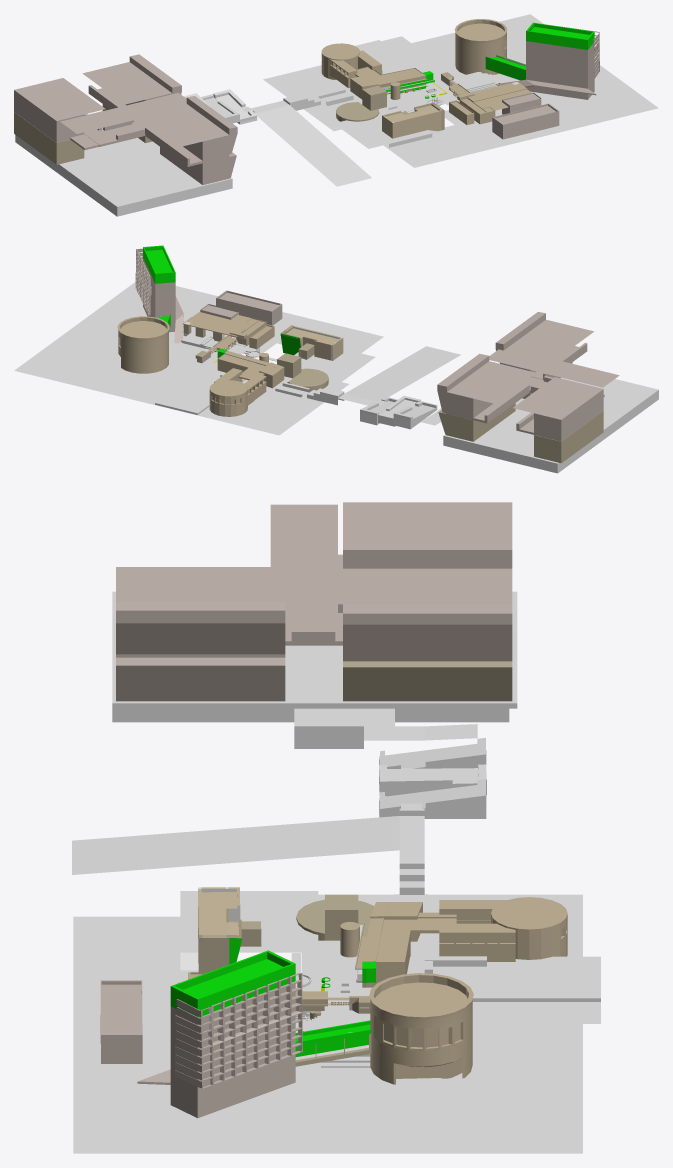
File: UNITY_UTB 1.fbx
3 views of the same model, one above another, from view 1: azimuth 30°, elevation 25°; view 2: azimuth 150°, elevation 25°; view 3: azimuth 270°, elevation 25° (orthographic). The views are drawn at different scales.
Visible parts, largest first — view 1: pPlane1, pasted__pCube5 (×2), pasted__pCube6 (×2), pasted__pasted__pasted__pCube6 (×2), pasted__pasted__pasted__pasted__pCube6, pasted__pasted__pCylinder4, pasted__pasted__pCube6, pasted__pasted__pasted__pasted__pasted__pasted__pasted__past (×2), pPlane2, pasted__pasted__pasted__pCube9, pCube9, pCube6 (+14 smaller); view 2: pPlane1, pasted__pCube5 (×2), pasted__pCube6 (×3), pasted__pasted__pasted__pCube6 (×2), pasted__pasted__pasted__pasted__pCube6, pasted__pasted__pCylinder4, pasted__pasted__pCube6, pPlane2, pasted__pasted__pasted__pCube9, pCube9, pasted__pCylinder4, pasted__pasted__pasted__pasted__pasted__pasted__pasted__past (+9 smaller); view 3: pPlane1, pasted__pCube6 (×3), pasted__pCube5 (×2), pasted__pasted__pasted__pCube6, pasted__pasted__pasted__pasted__pCube6, pasted__pasted__pCylinder4, pPlane3, pCube6, pPlane2, pasted__pasted__pasted__pasted__pasted__pasted__pasted__past (×2), pasted__pasted__pCube6, pasted__pCylinder4 (+11 smaller).
Boxes of the visible parts, x1,y1,x2,y2 form: pPlane1: (241, 14, 658, 186); pasted__pCube5 (×2): (15, 93, 239, 216); pasted__pCube6 (×2): (142, 96, 444, 166); pasted__pasted__pasted__pCube6 (×2): (14, 54, 181, 164); pasted__pasted__pasted__pasted__pCube6: (14, 78, 105, 149); pasted__pasted__pCylinder4: (454, 19, 507, 74); pasted__pasted__pCube6: (85, 65, 159, 146); pasted__pasted__pasted__pasted__pasted__pasted__pasted__past (×2): (526, 22, 594, 59); pPlane2: (60, 93, 189, 133); pasted__pasted__pasted__pCube9: (492, 103, 559, 139); pCube9: (459, 81, 531, 124); pCube6: (160, 147, 236, 184); pPlane1: (14, 282, 460, 435); pasted__pCube5 (×2): (378, 377, 658, 473); pasted__pCube6 (×3): (280, 312, 594, 441); pasted__pasted__pasted__pCube6 (×2): (437, 353, 603, 463); pasted__pasted__pasted__pasted__pCube6: (513, 377, 604, 441); pasted__pasted__pCylinder4: (117, 316, 169, 373); pasted__pasted__pCube6: (459, 364, 553, 423); pPlane2: (489, 348, 619, 387); pasted__pasted__pasted__pCube9: (216, 290, 282, 325); pCube9: (182, 311, 266, 345); pasted__pCylinder4: (209, 380, 247, 416); pasted__pasted__pasted__pasted__pasted__pasted__pasted__past: (143, 245, 175, 283); pPlane1: (72, 803, 600, 1153); pasted__pCube6 (×3): (116, 567, 512, 972); pasted__pCube5 (×2): (112, 591, 517, 796); pasted__pasted__pasted__pCube6: (343, 568, 512, 661); pasted__pasted__pasted__pasted__pCube6: (338, 502, 512, 568); pasted__pasted__pCylinder4: (369, 973, 473, 1084); pPlane3: (174, 973, 302, 1089); pCube6: (116, 657, 285, 701); pPlane2: (270, 504, 337, 619); pasted__pasted__pasted__pasted__pasted__pasted__pasted__past (×2): (170, 950, 295, 1037); pasted__pasted__pCube6: (285, 568, 512, 645); pasted__pCylinder4: (491, 897, 567, 959).
Bounding box in the file's own units: 2909 × 403 × 1259.
